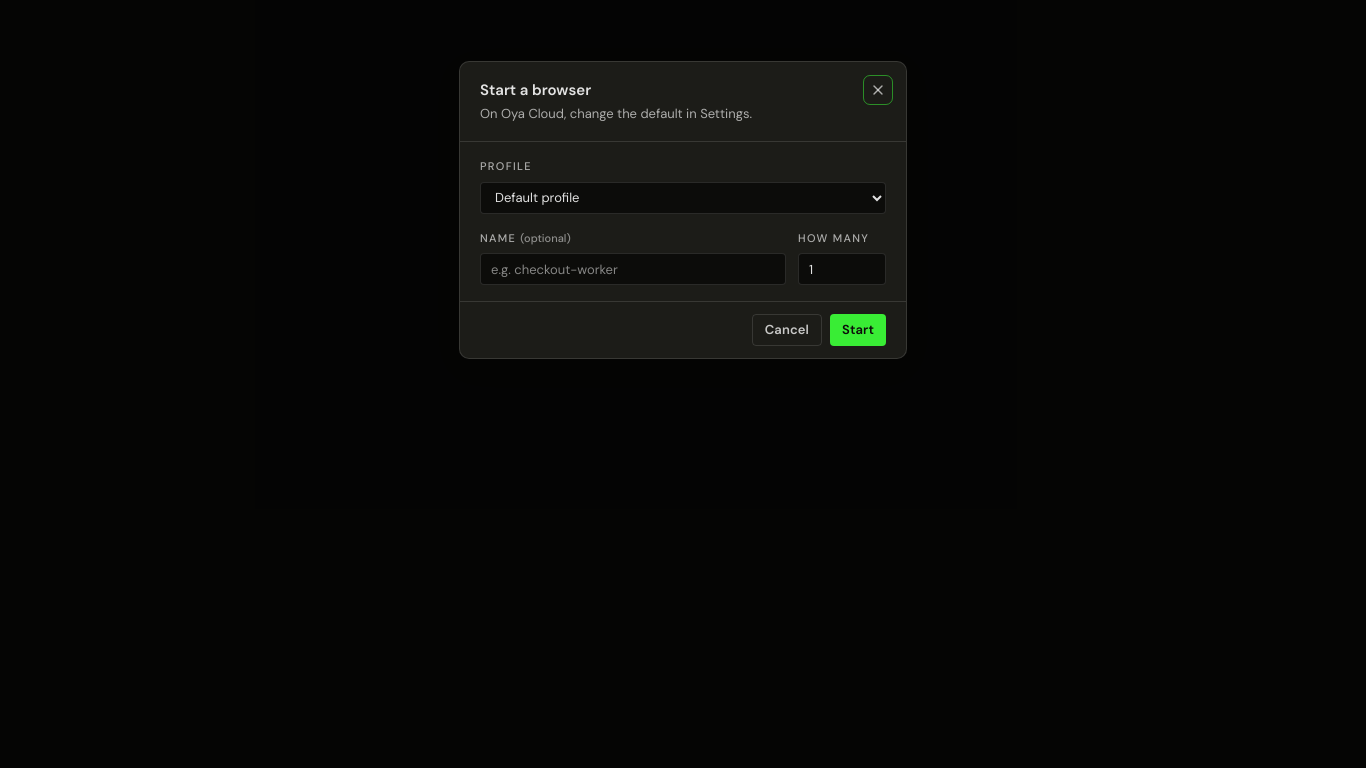
Test: StartBrowser › keeps the dialog open with the error when a start fails
The image size is (1366, 768).
Click the button "Start": (858, 330) [830,314,886,346]
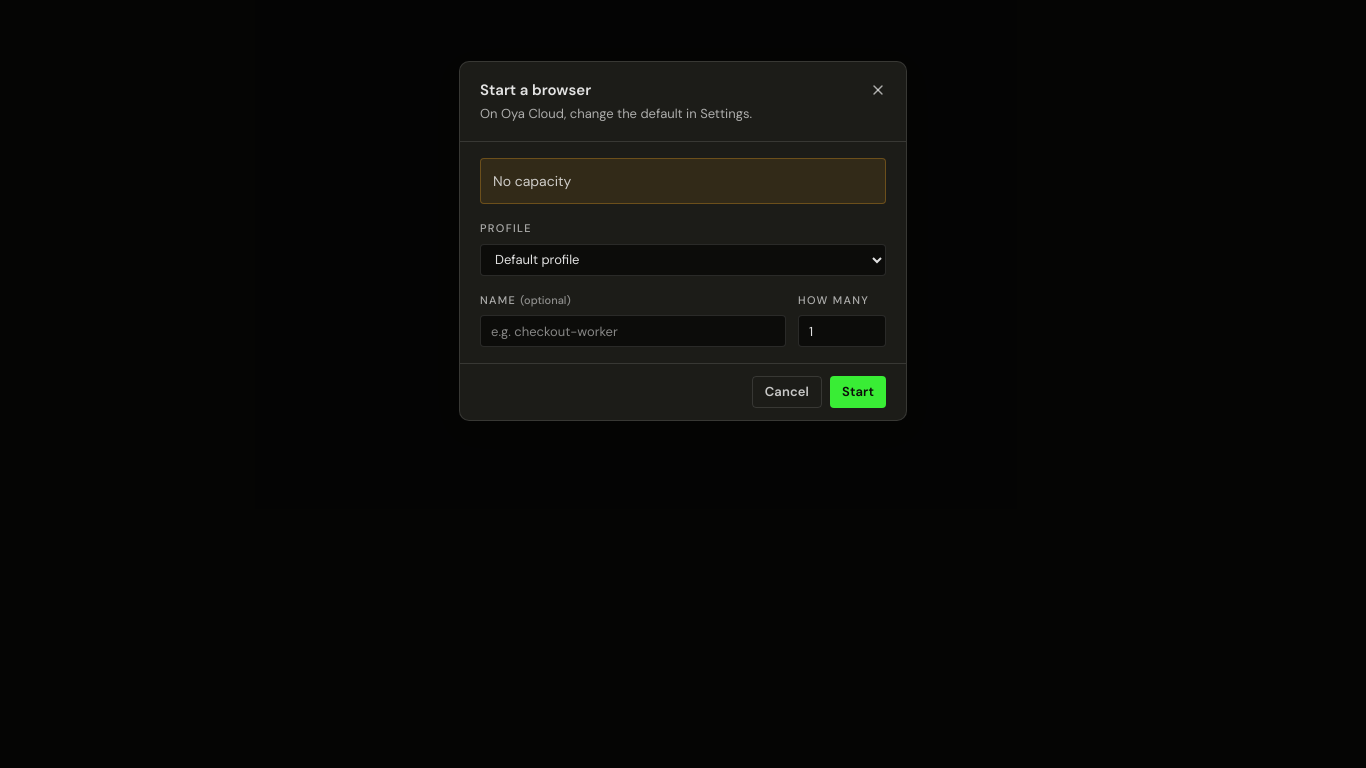
expect the message reads "No capacity": met, box [493,172,571,190]
